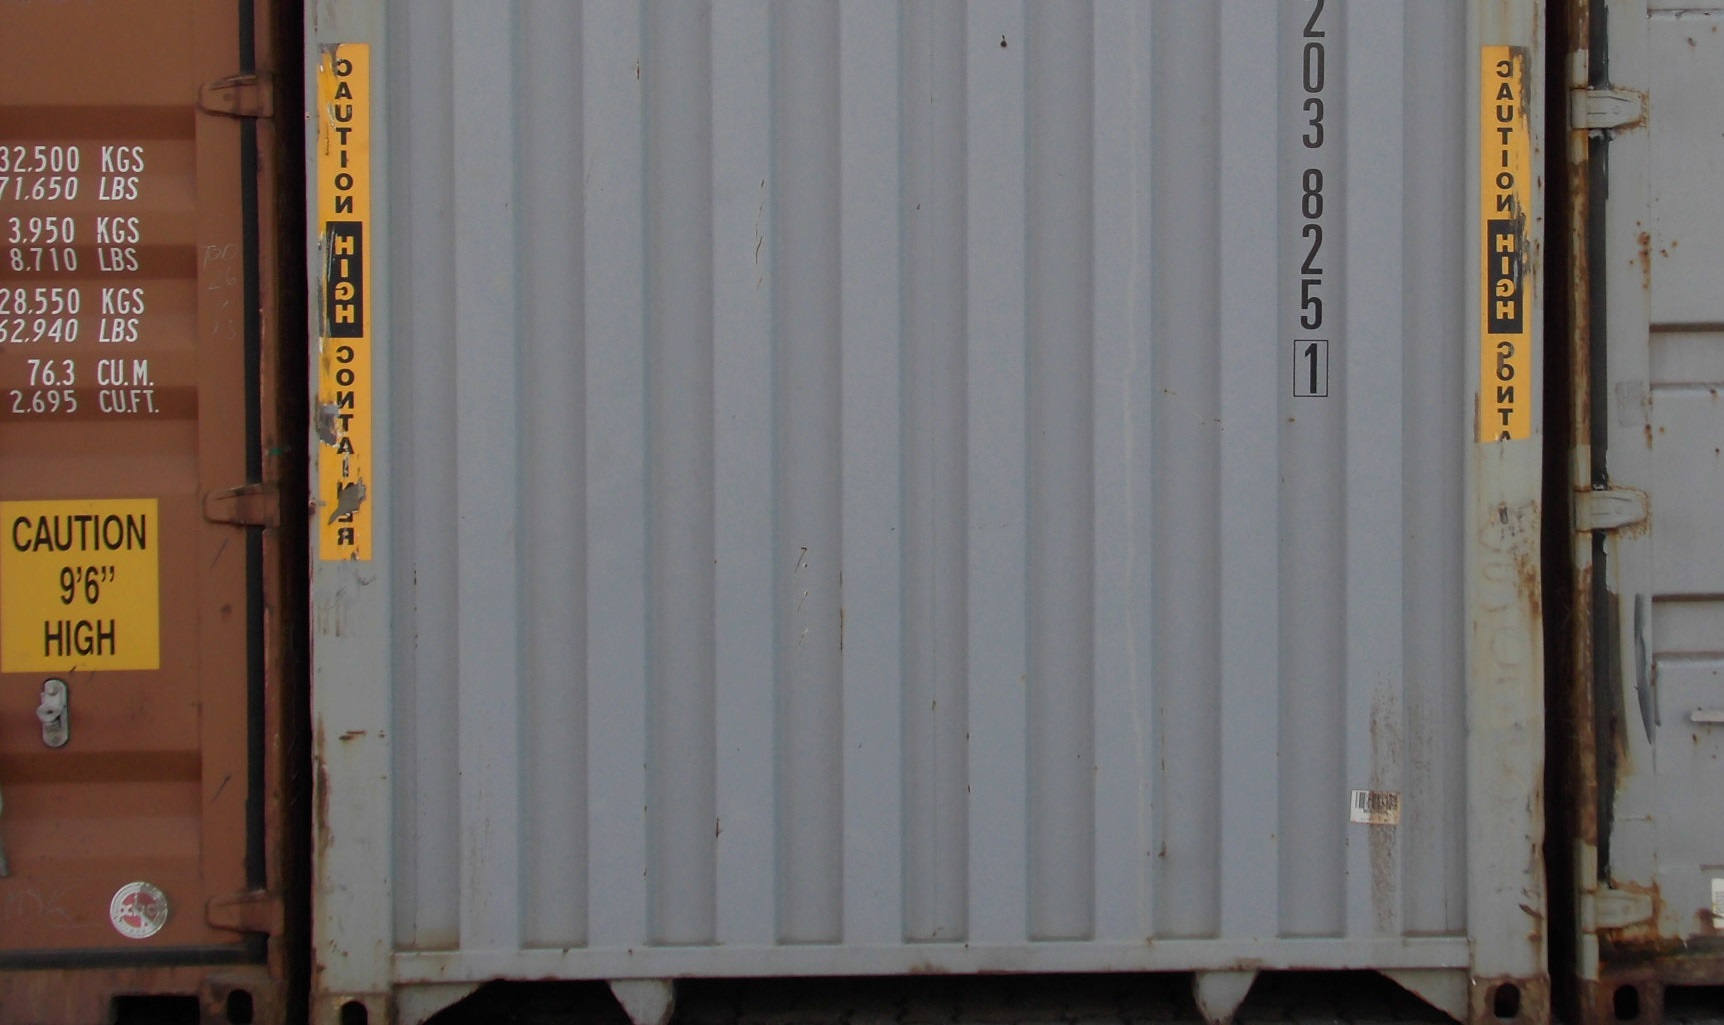container_no_door: (312, 5, 1548, 1002)
